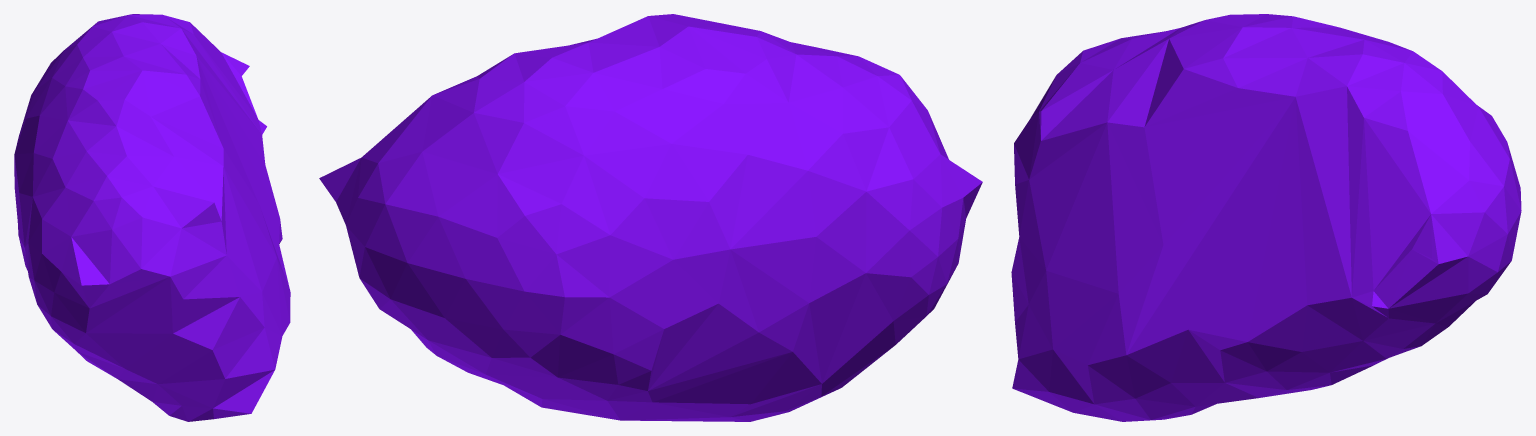
Rendered from Model_239_RH__Nucleus_of_the_horizontal_limb_of_the_diagonal_band_(HDB).obj.
The picture shows the model from 3 angles, left to right: view 1: azimuth 30°, elevation 25°; view 2: azimuth 150°, elevation 25°; view 3: azimuth 270°, elevation 25°; orthographic projection. The views are drawn at different scales.
Size of the model in its own units: 0.7256 by 0.6527 by 0.7884.
